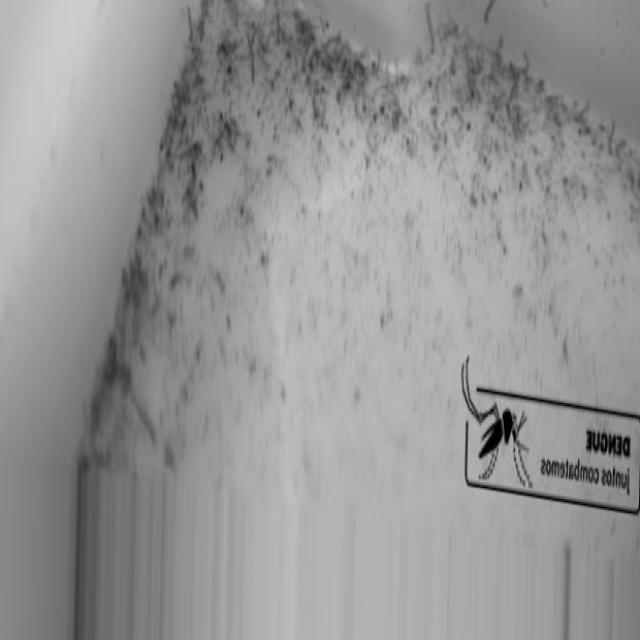larvas: (424, 0, 439, 54), (299, 34, 317, 73), (508, 52, 532, 77), (572, 100, 592, 124), (275, 2, 283, 55), (608, 117, 619, 155), (309, 42, 323, 71), (247, 37, 256, 80), (367, 110, 377, 148), (185, 8, 196, 42), (506, 78, 516, 105), (481, 0, 493, 22), (372, 52, 384, 74), (359, 86, 369, 111), (395, 53, 403, 84)
